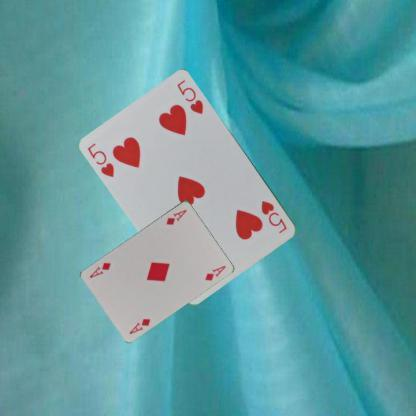5h: (85, 140, 116, 180), (259, 198, 289, 235)
Ad: (126, 316, 152, 336), (163, 207, 188, 226)
